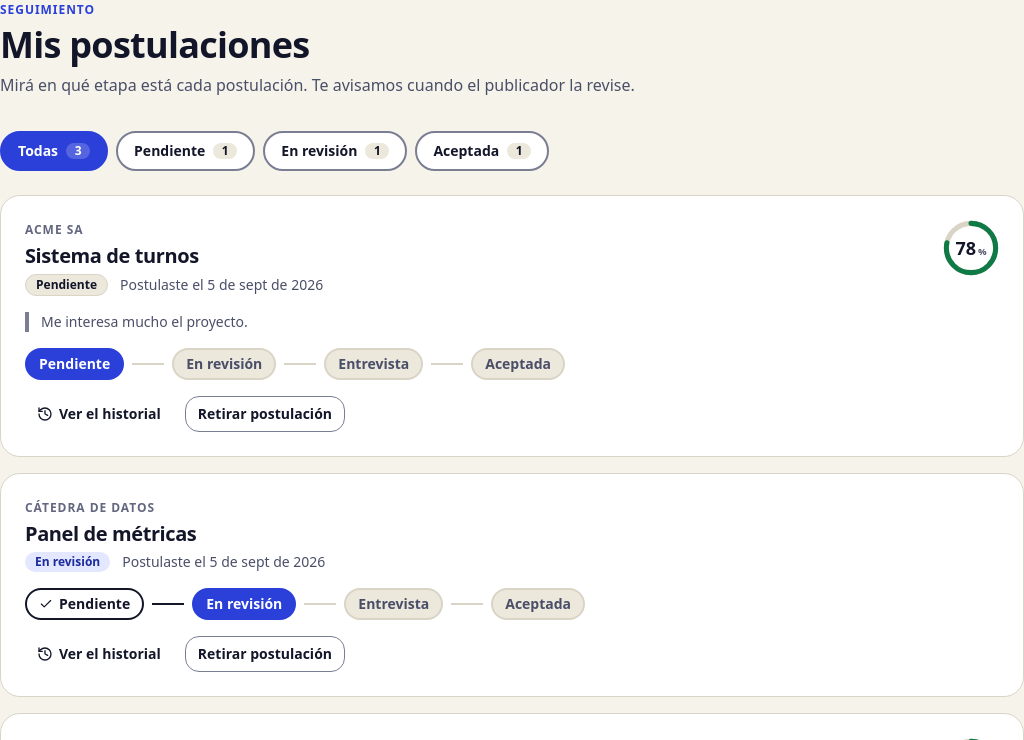
Test: PostulacionesPage › retirar una postulación › al confirmar la retira, avisa y refresca el listado
Expected: the link "Sistema de turnos" is shown, [25,242,199,269]
Click the button "Retirar postulación" below "Sistema de turnos": x=265, y=414 [185,396,345,432]
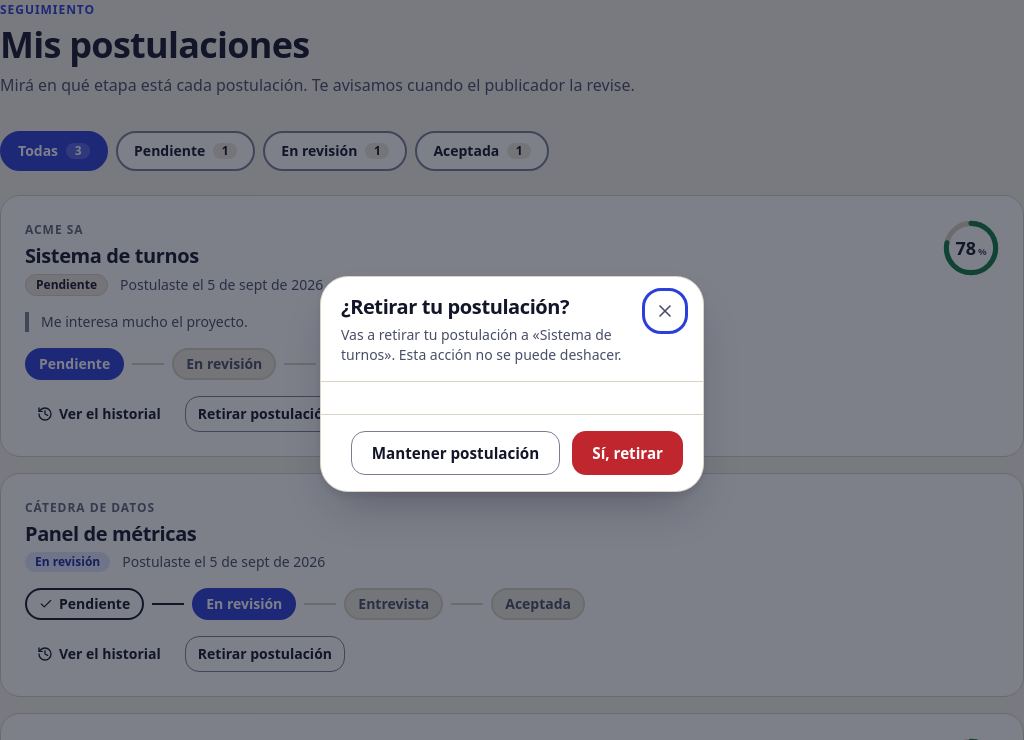
Click the button "Sí, retirar": x=628, y=453 [572,431,683,475]
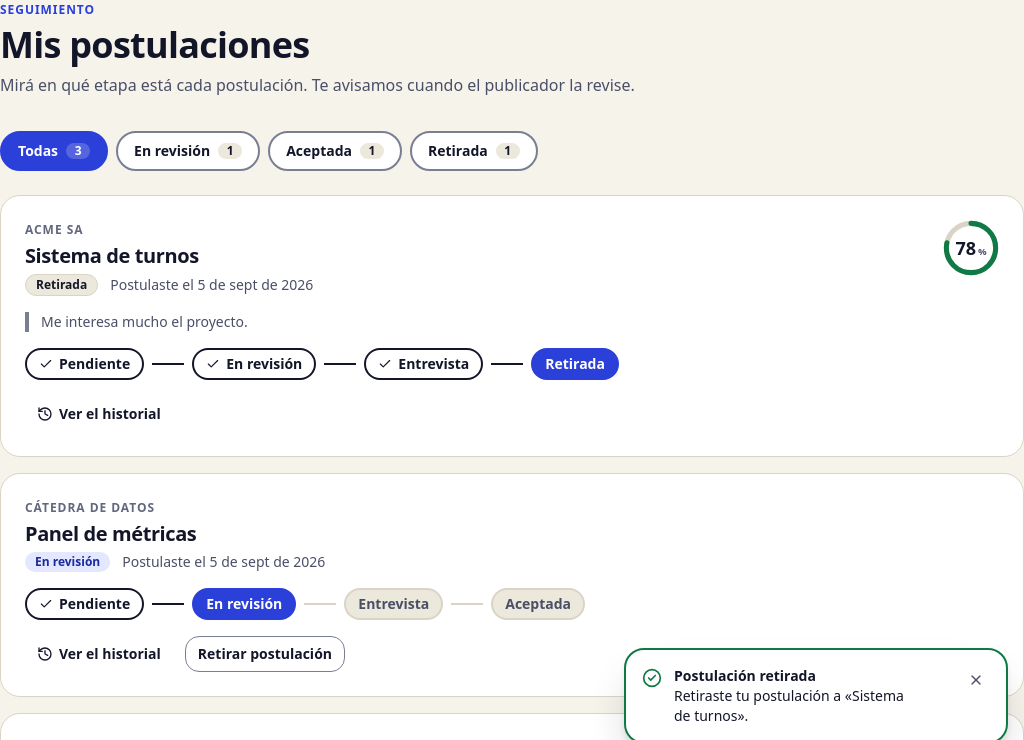
Expected: the text "Retiraste tu postulación a «Sistema de turnos»." is shown, [674,686,904,725]
Expected: the dialog is gone
Expected: the text "Retirada" is shown, [25,274,98,296]
